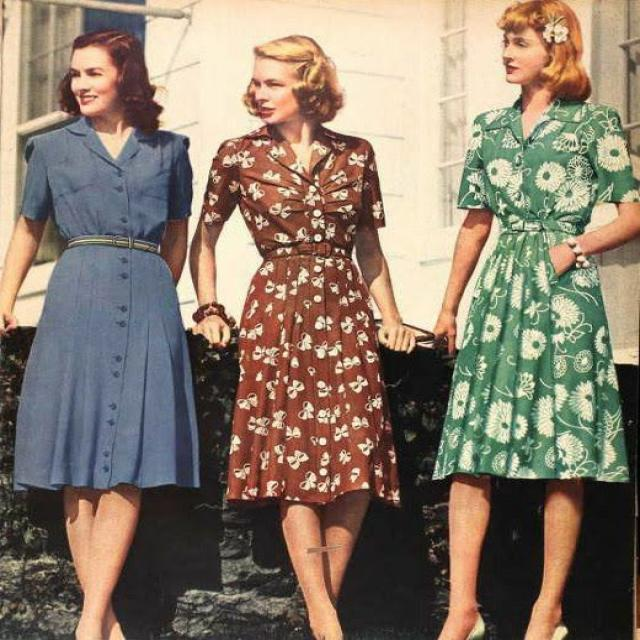female-dress: (441, 100, 640, 490), (216, 125, 414, 505), (22, 125, 199, 496)
